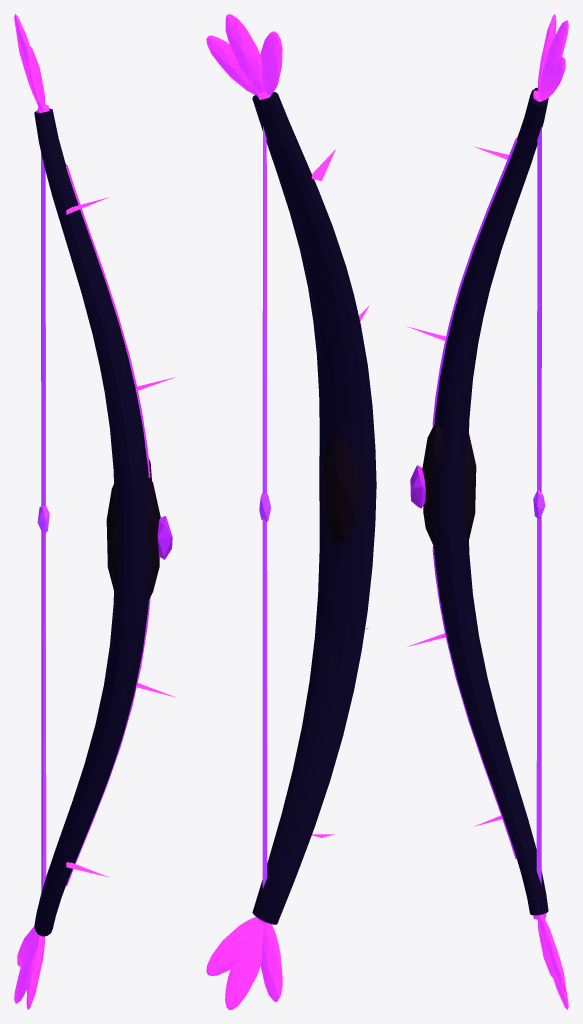
The model's file is bow_6.glb.
3 views of the same model, side by side, from view 1: azimuth 90°, elevation 25°; view 2: azimuth 150°, elevation 25°; view 3: azimuth 270°, elevation 25° (orthographic).
Parts seen in each view (by area): view 1: part_01, part_06, part_11, part_13, part_22, part_07, part_02, part_08, part_21, part_23, part_03; view 2: part_06, part_01, part_11, part_13, part_08, part_03, part_09, part_07, part_02, part_04; view 3: part_06, part_01, part_11, part_13, part_22, part_09, part_04, part_23, part_03, part_21, part_20, part_02.
Part boxes in pixels (left/top/right/bottom): part_01: left=34, top=108, right=149, bottom=550; part_06: left=34, top=546, right=148, bottom=936; part_11: left=41, top=152, right=46, bottom=892; part_13: left=106, top=477, right=160, bottom=600; part_22: left=66, top=165, right=150, bottom=477; part_07: left=26, top=935, right=44, bottom=1009; part_02: left=26, top=45, right=44, bottom=111; part_08: left=14, top=933, right=38, bottom=1003; part_21: left=157, top=516, right=172, bottom=559; part_23: left=66, top=598, right=150, bottom=885; part_03: left=14, top=14, right=30, bottom=83; part_06: left=252, top=481, right=376, bottom=924; part_01: left=252, top=92, right=376, bottom=492; part_11: left=262, top=126, right=267, bottom=888; part_13: left=323, top=435, right=360, bottom=544; part_08: left=225, top=923, right=264, bottom=1009; part_03: left=225, top=14, right=263, bottom=92; part_09: left=206, top=917, right=260, bottom=975; part_07: left=260, top=923, right=282, bottom=1001; part_02: left=260, top=31, right=282, bottom=95; part_04: left=206, top=35, right=259, bottom=95; part_06: left=433, top=495, right=548, bottom=915; part_01: left=434, top=87, right=548, bottom=499; part_11: left=536, top=126, right=541, bottom=884; part_13: left=422, top=429, right=476, bottom=546; part_22: left=432, top=138, right=516, bottom=426; part_09: left=539, top=915, right=565, bottom=992; part_04: left=539, top=56, right=565, bottom=100; part_23: left=432, top=547, right=516, bottom=858; part_03: left=541, top=20, right=568, bottom=81; part_21: left=410, top=465, right=425, bottom=508; part_20: left=430, top=423, right=443, bottom=468; part_02: left=538, top=14, right=556, bottom=92.
Bounding box in the file's own units: 0.148 × 1.27 × 0.191.
